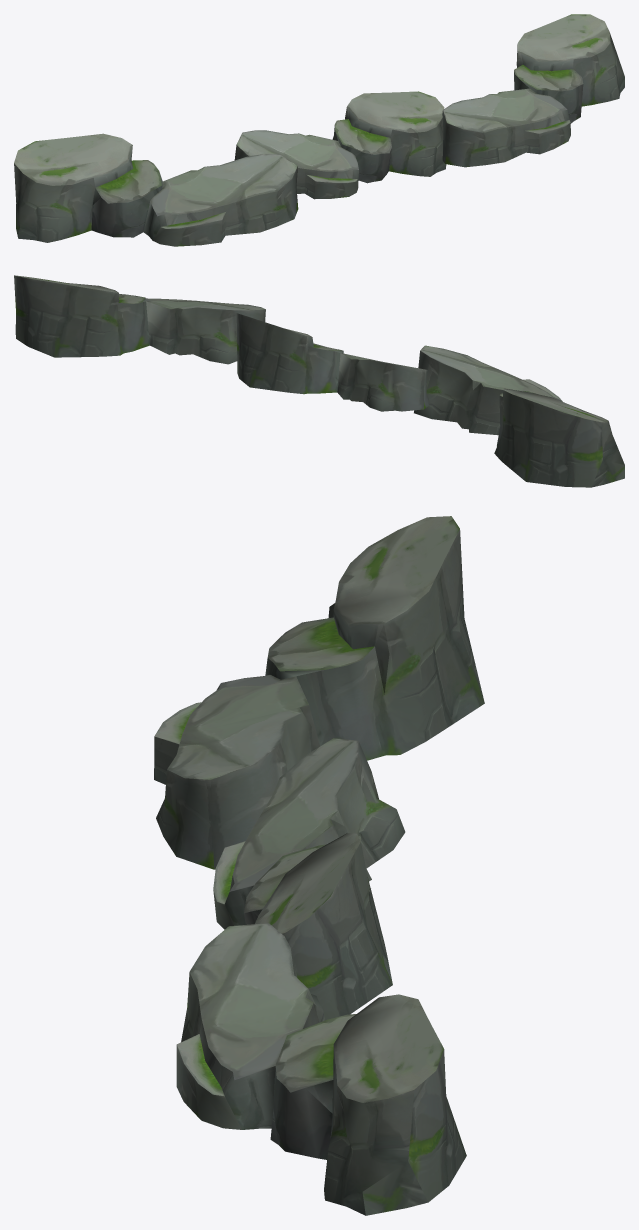
Rendered from scene_malujiakuangdao_shan01_2.FBX.
3 views of the same model, one above another, from view 1: azimuth 30°, elevation 25°; view 2: azimuth 150°, elevation 25°; view 3: azimuth 270°, elevation 25° (orthographic). The views are drawn at different scales.
Parts seen in each view (by area): view 1: scene_malujiakuangdao_shan01_2; view 2: scene_malujiakuangdao_shan01_2; view 3: scene_malujiakuangdao_shan01_2.
Boxes of the visible parts, bbox=[...] form: scene_malujiakuangdao_shan01_2: bbox=[14, 14, 624, 246]; scene_malujiakuangdao_shan01_2: bbox=[14, 275, 624, 487]; scene_malujiakuangdao_shan01_2: bbox=[154, 516, 484, 1215].
Bounding box in the file's own units: 2858 × 354 × 676.
